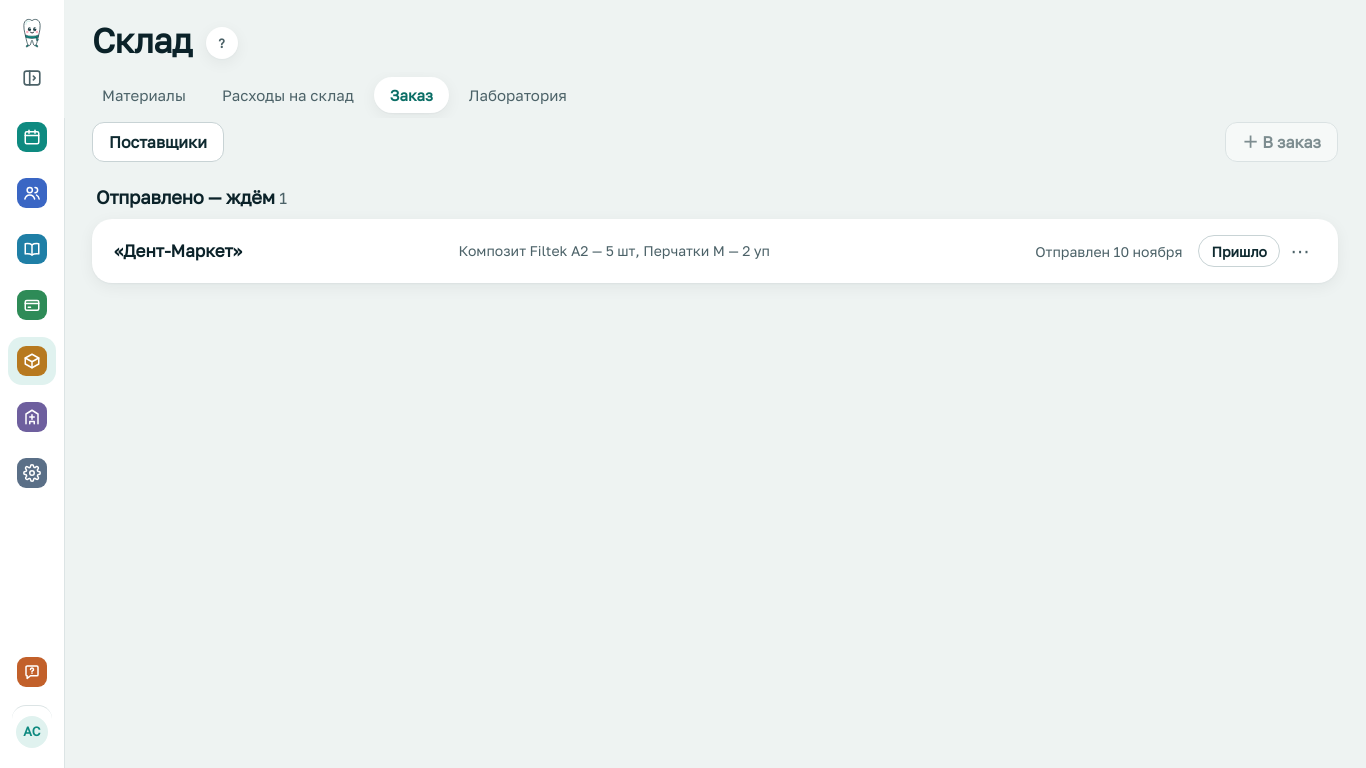
«Пришло»: по позициям, своё количество и цена — сумма за позицию
The image size is (1366, 768).
Check: the element "Отправлено — ждём" shows "Отправлен 10 ноября", box [92,186,1338,283]
Click the button with aria-label "Пришло: Дент-Маркет" at point(1239, 251), box [1198,235,1280,267]
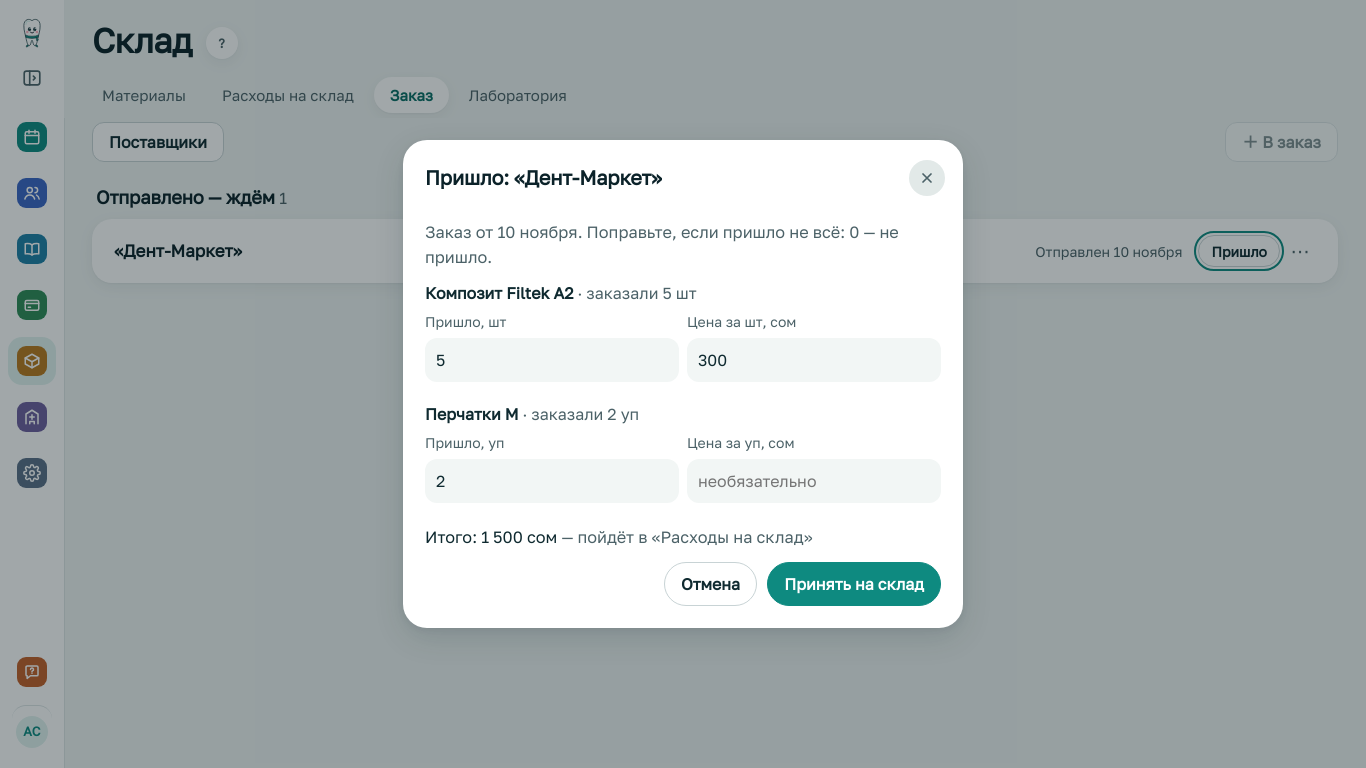
Check: the number field named "Пришло: Композит Filtek A2" holds "5"
Clear the number field named "Пришло: Композит Filtek A2" at point(552, 360), box [425,338,679,382]
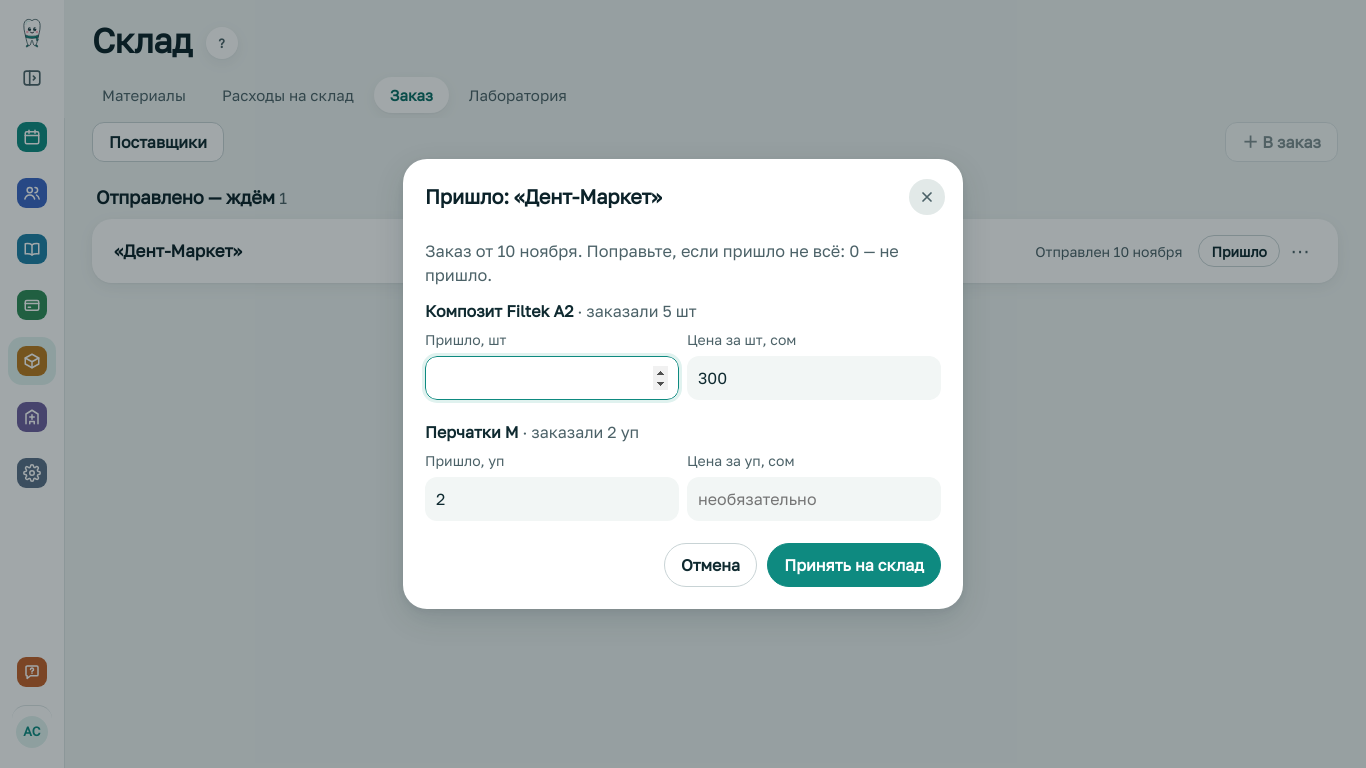
Type "4" into the number field named "Пришло: Композит Filtek A2" at point(552, 378), box [425,356,679,400]
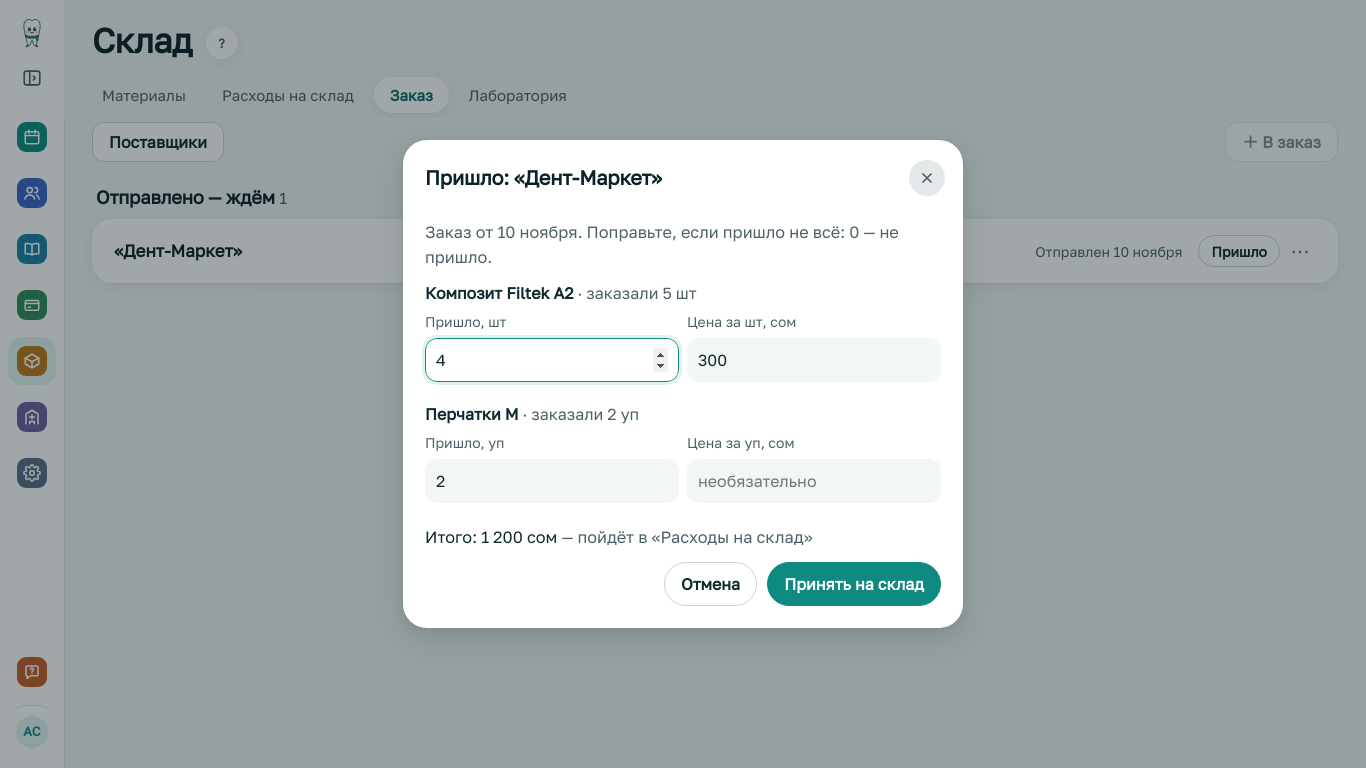
Replace the text in the number field named "Пришло: Перчатки M" with "0" at point(552, 481), box [425,459,679,503]
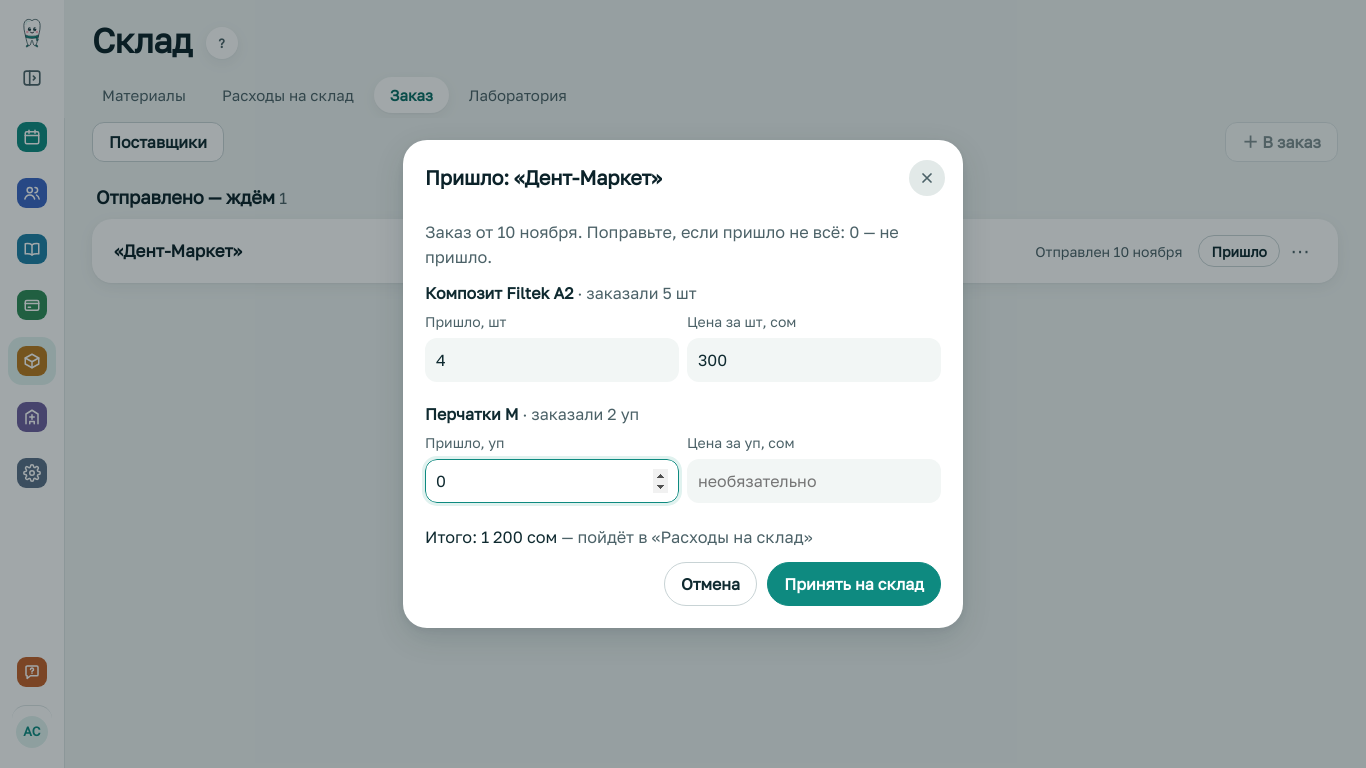
Check: the dialog "Пришло: «Дент-Маркет»" shows "Итого: 1 200 сом", box [403,140,963,628]
Click the button "Принять на склад" at point(854, 584), box [767,562,941,606]
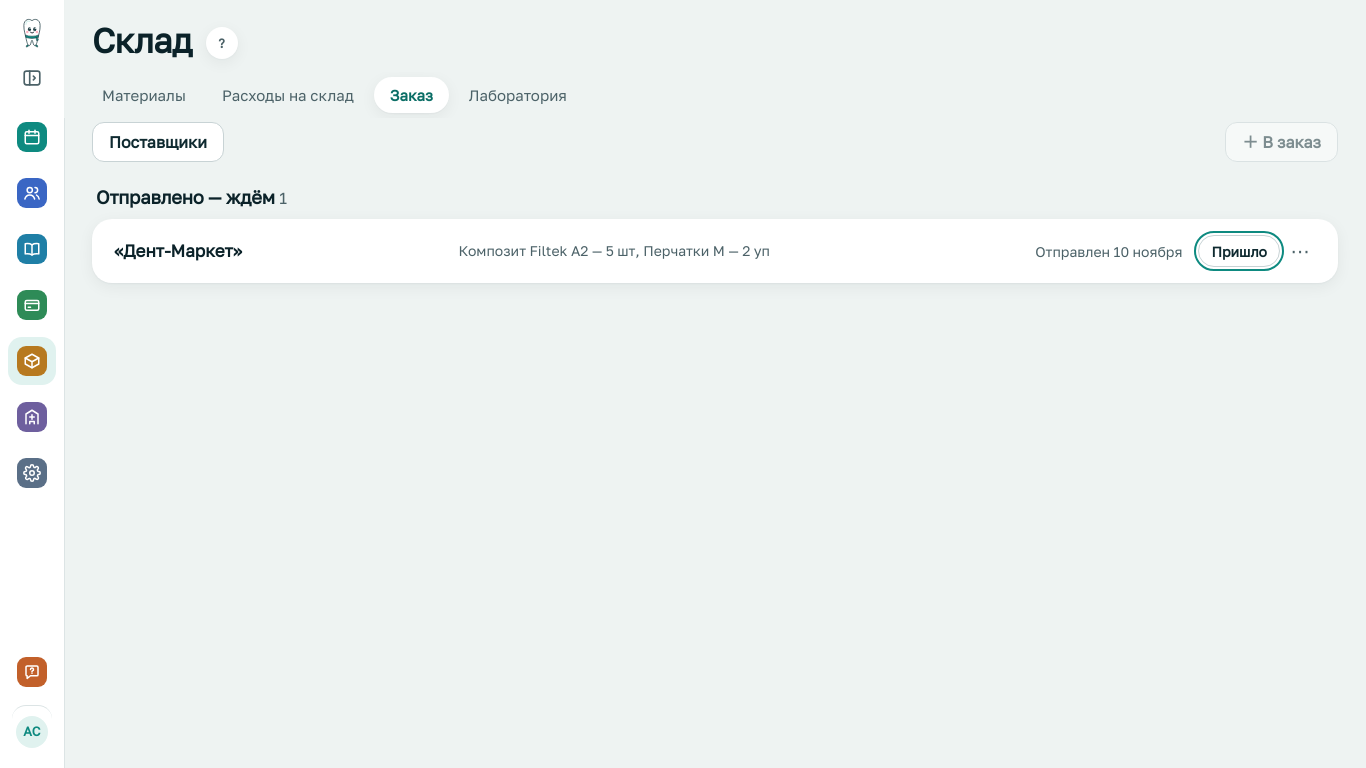
Check: the dialog is gone
